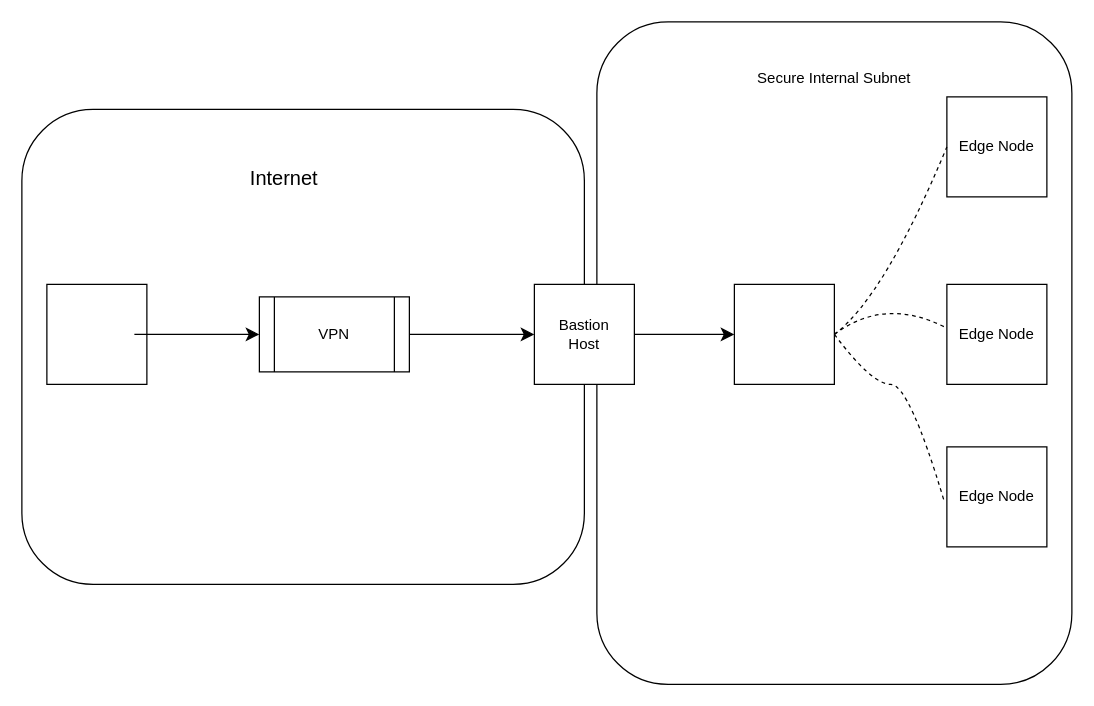
This 1094x706 diagram has some shape labels left out. Here are the shapes that lost their labels. From the top down, the centre of each, then its label:
At (96,333): "Client pc".
At (783,333): "Main Node".
